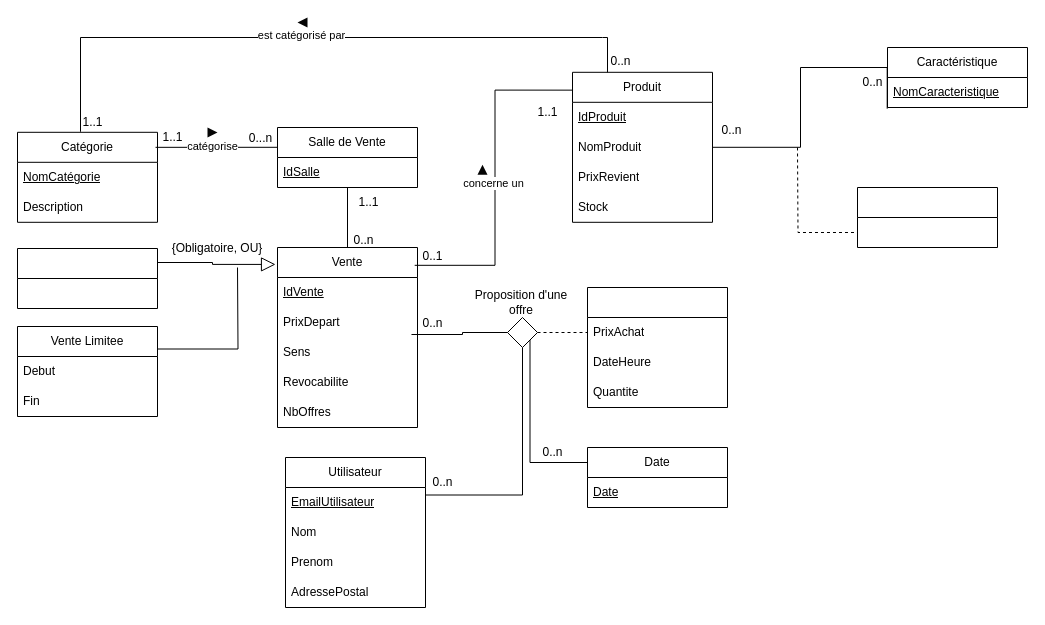
Some shapes in this 1045 by 625 pixel diagram are drawn without their labels. Each missing label, with the centre of its shape:
"Valeur Caractéristique" belongs at point 927,217.
"Vente Libre" belongs at point 87,278.
